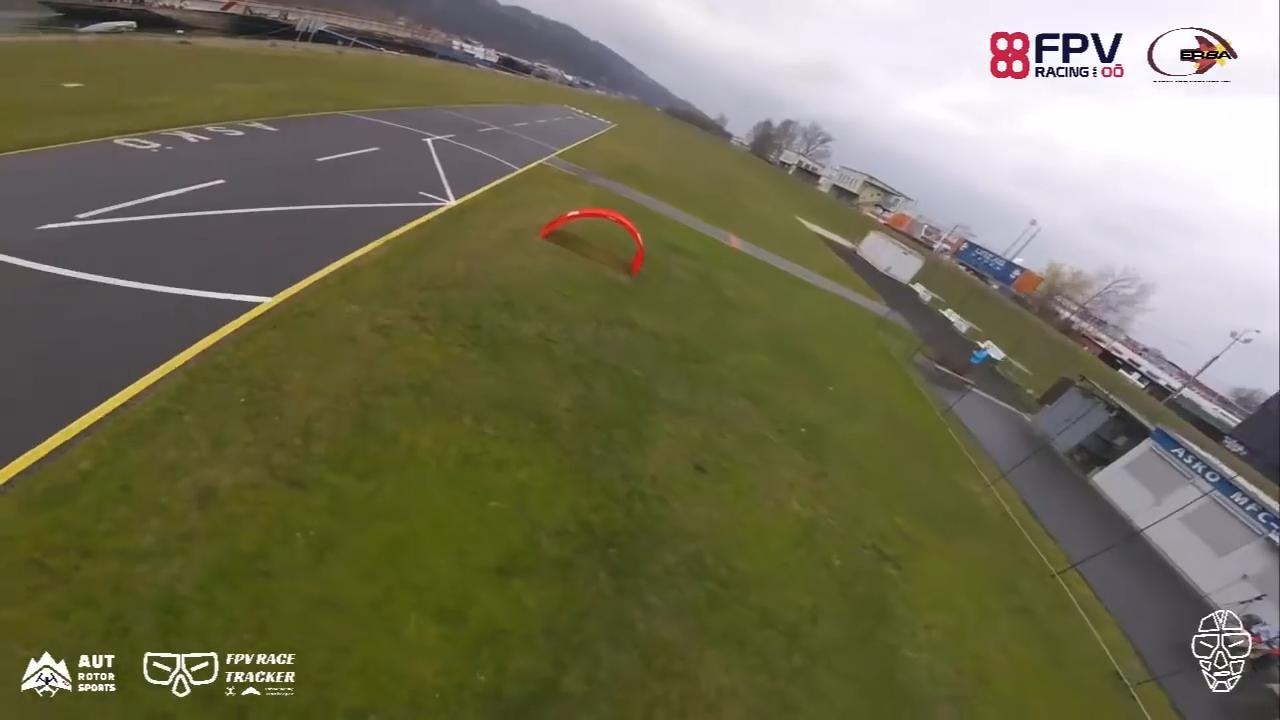gate: (542, 207, 647, 283)
